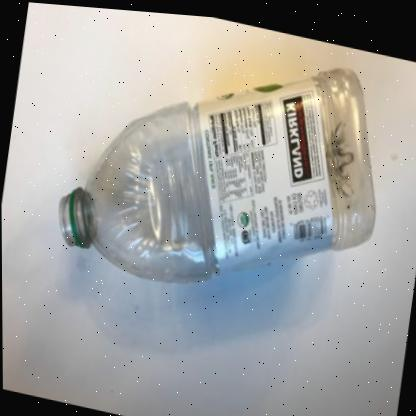Plastic: (57, 63, 374, 278)
